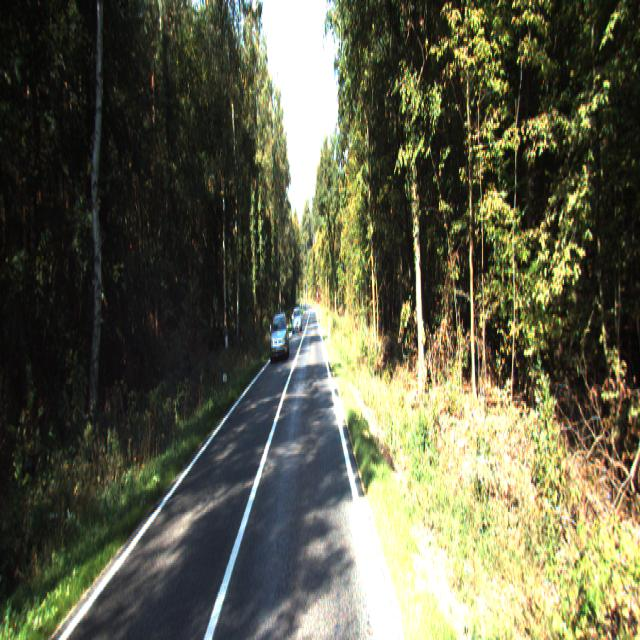Car: (268, 312, 289, 364), (291, 307, 302, 333)
